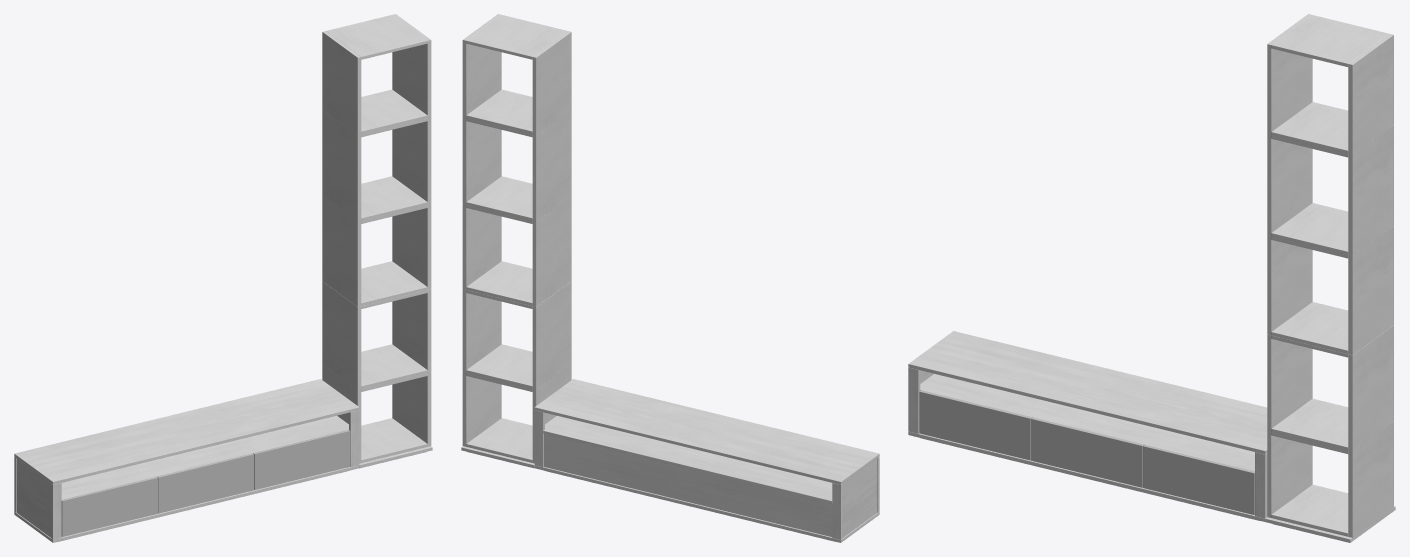
File: MuebleTV.fbx
The picture shows the model from 3 angles, left to right: view 1: azimuth 30°, elevation 25°; view 2: azimuth 150°, elevation 25°; view 3: azimuth 330°, elevation 25°; orthographic projection. The views are drawn at different scales.
Parts seen in each view (by area): view 1: MuebleTV; view 2: MuebleTV; view 3: MuebleTV.
Boxes of the visible parts, x1=… form: MuebleTV: x1=14, y1=14, x2=432, y2=542; MuebleTV: x1=461, y1=14, x2=879, y2=542; MuebleTV: x1=908, y1=14, x2=1395, y2=542.
Bounding box in the file's own units: 260 × 270 × 46.
